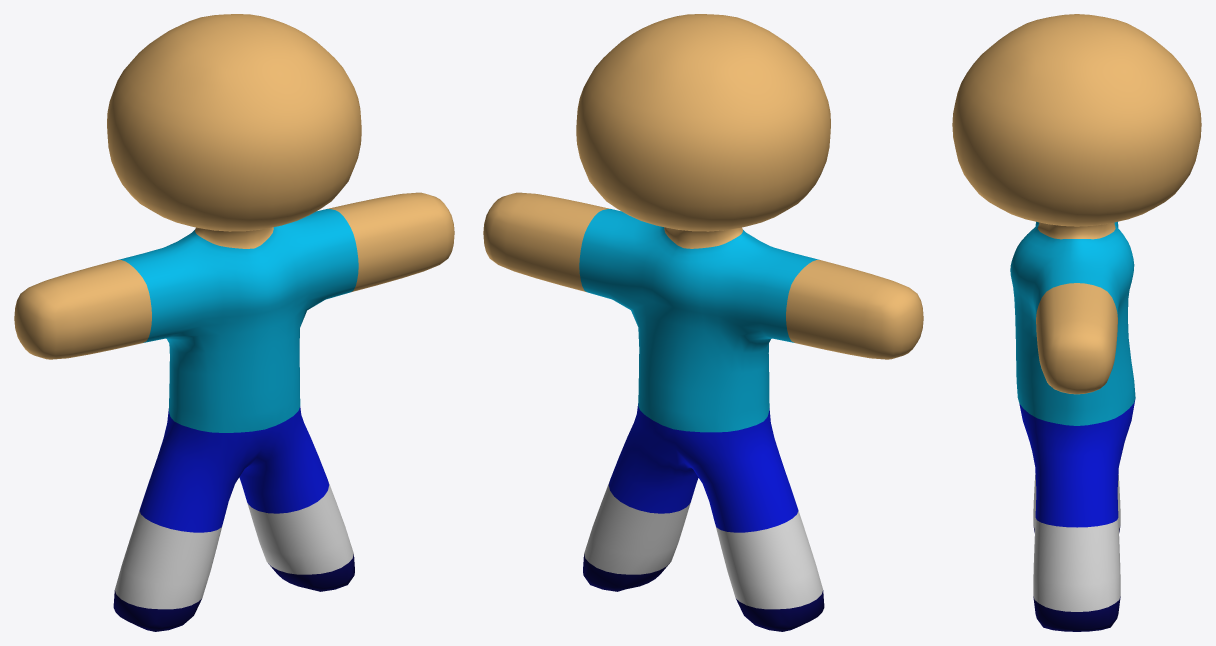
File: Jugador.glb
The picture shows the model from 3 angles, left to right: view 1: azimuth 30°, elevation 25°; view 2: azimuth 150°, elevation 25°; view 3: azimuth 270°, elevation 25°; orthographic projection. The views are drawn at different scales.
Parts seen in each view (by area): view 1: Cube; view 2: Cube; view 3: Cube.
Boxes of the visible parts, bbox=[...] form: Cube: bbox=[14, 14, 454, 631]; Cube: bbox=[483, 14, 923, 631]; Cube: bbox=[952, 14, 1201, 631].
Bounding box in the file's own units: 0.6429 × 0.8211 × 0.334.
